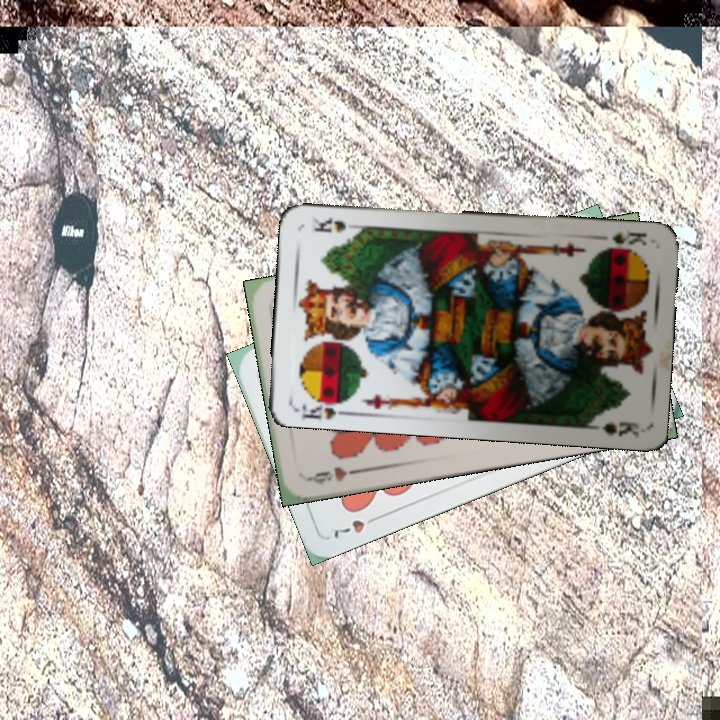H7: (327, 511, 383, 542)
H9: (303, 462, 362, 487)
SK: (297, 392, 352, 421), (608, 228, 649, 248)
